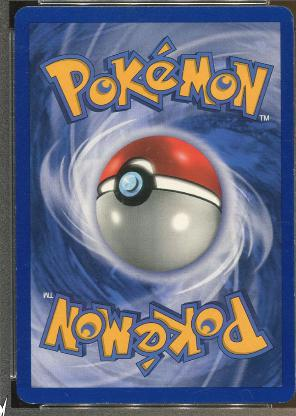Card: (9, 4, 293, 406)
Corner Wear: (19, 396, 39, 404), (287, 12, 294, 32), (274, 398, 288, 404)
Edge Wear: (94, 401, 123, 403), (15, 261, 16, 301), (290, 166, 292, 180)
Scratch: (188, 385, 210, 395), (240, 387, 252, 399), (63, 390, 69, 398)
